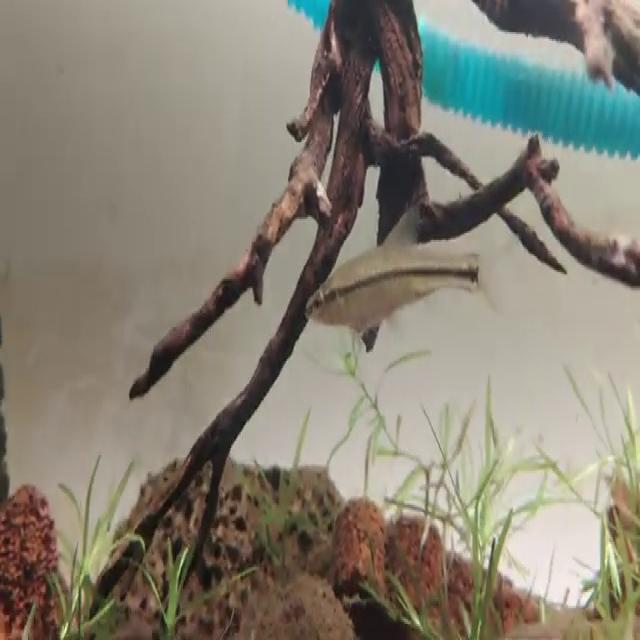Cakil Baligi: (302, 190, 517, 344)
